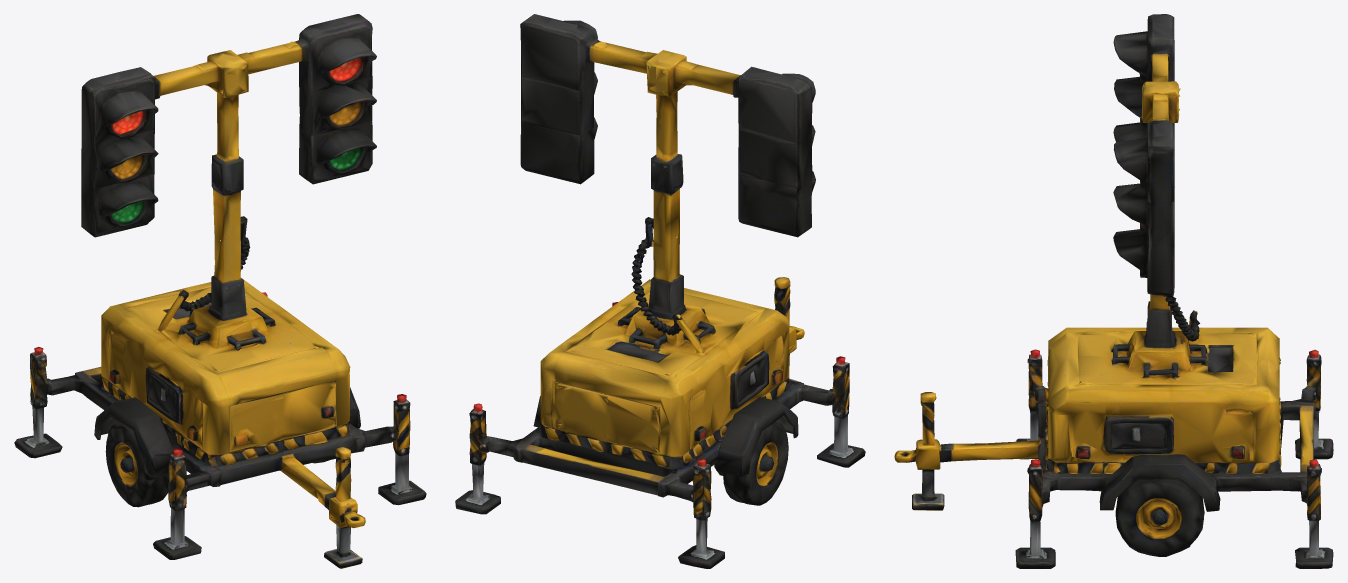
Rendered from veh-lightworks.glb.
The picture shows the model from 3 angles, left to right: view 1: azimuth 30°, elevation 25°; view 2: azimuth 150°, elevation 25°; view 3: azimuth 270°, elevation 25°; orthographic projection.
Visible parts, largest first — view 1: tripo_node_c11b7090-480d-463a-93b6-cd9e2159f926; view 2: tripo_node_c11b7090-480d-463a-93b6-cd9e2159f926; view 3: tripo_node_c11b7090-480d-463a-93b6-cd9e2159f926.
Boxes of the visible parts, <box> form: tripo_node_c11b7090-480d-463a-93b6-cd9e2159f926: <box>14,14,426,568</box>; tripo_node_c11b7090-480d-463a-93b6-cd9e2159f926: <box>455,14,865,568</box>; tripo_node_c11b7090-480d-463a-93b6-cd9e2159f926: <box>894,14,1333,568</box>.
Bounding box in the file's own units: 0.6745 × 0.9789 × 0.9058.
1 material, 1 textured.
